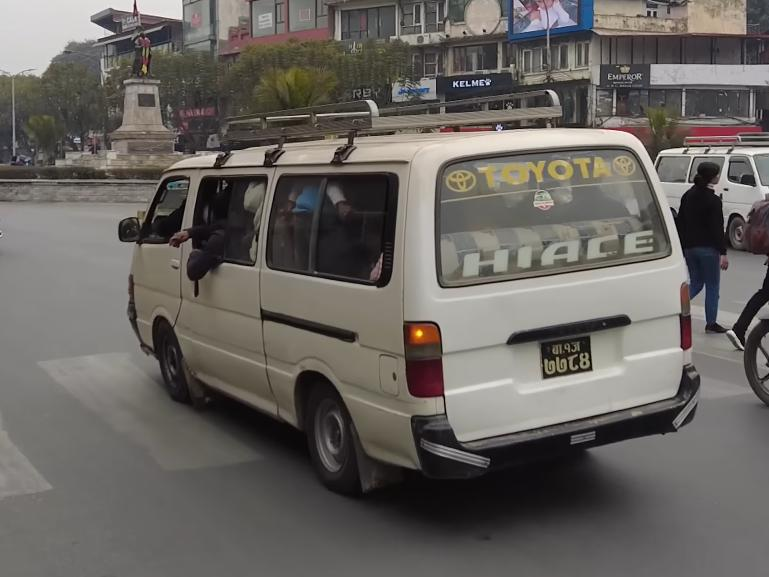van: (111, 86, 714, 501), (647, 132, 769, 250)
